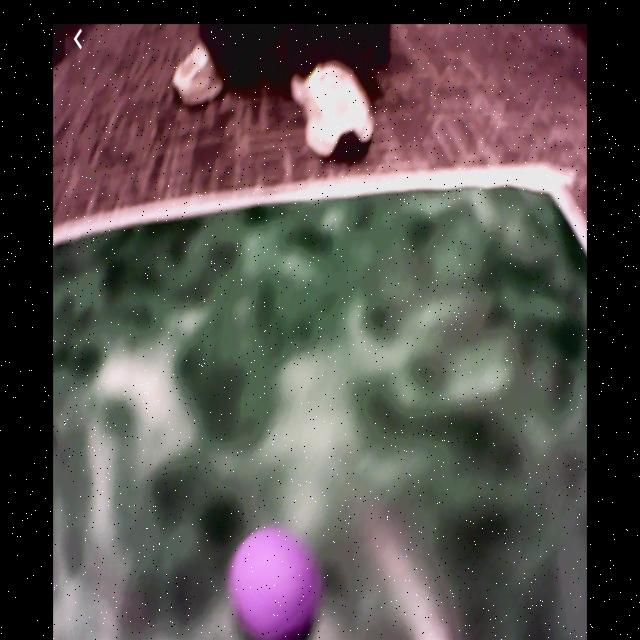ball: (230, 528, 323, 640)
